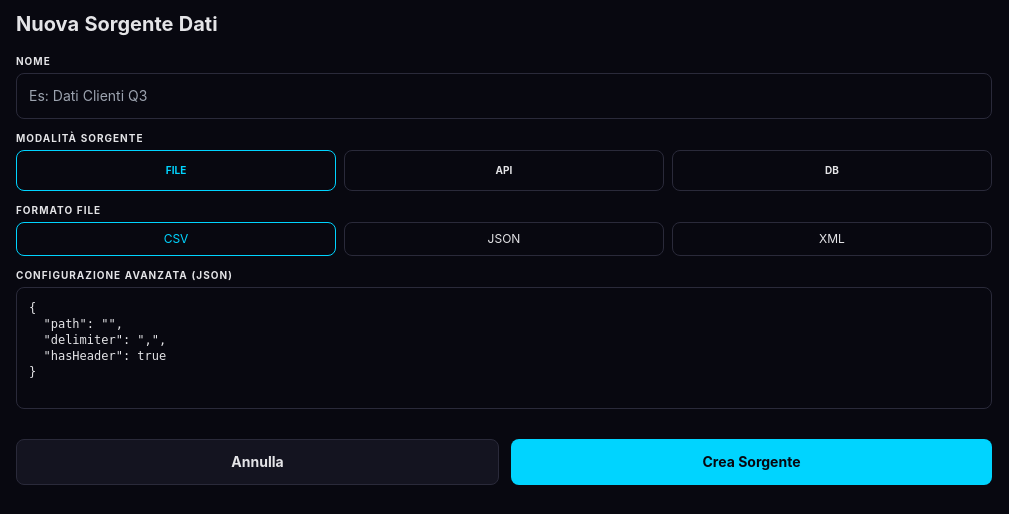
Scenario: DataSourceForm › switches to API mode
What coordinates should you click on to do the following:
click the button "API"
I would click on:
 (504, 170)
Its box is [344,150,664,191].
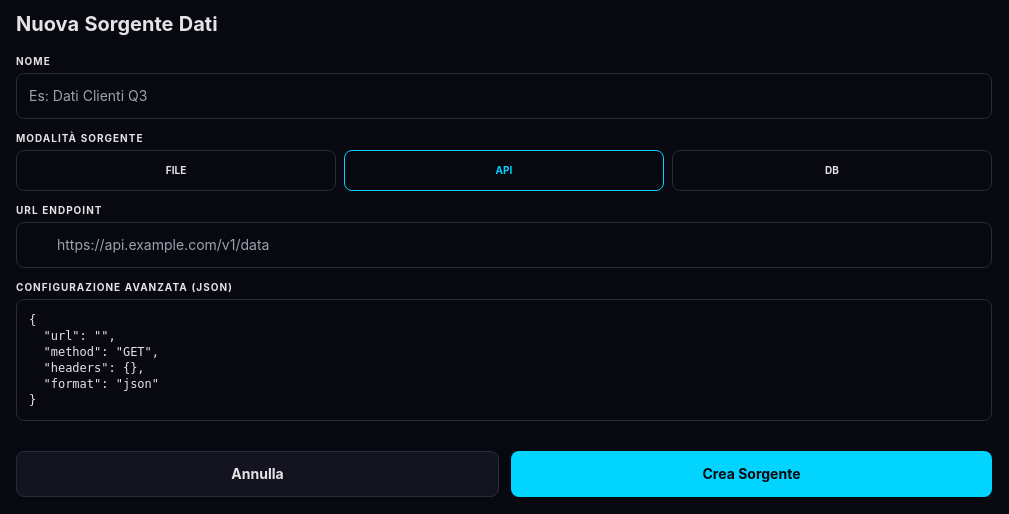
Now the text "URL Endpoint" is shown, box [16,204,102,216]
